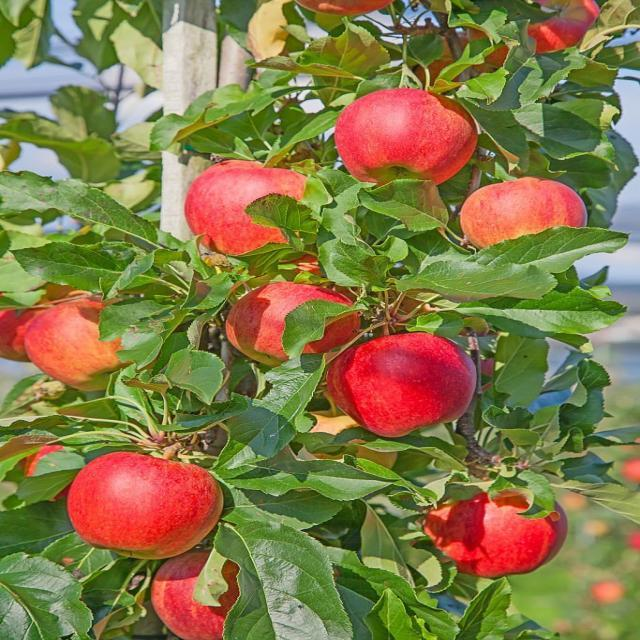Red Apple: (74, 450, 228, 556), (430, 484, 569, 583), (337, 94, 478, 188), (332, 333, 467, 431), (194, 154, 325, 254), (230, 272, 363, 358), (156, 544, 275, 640), (27, 300, 146, 380), (459, 180, 583, 248), (307, 400, 406, 482), (481, 1, 592, 70), (434, 33, 504, 107), (1, 431, 73, 497), (1, 284, 58, 360), (294, 1, 402, 25), (592, 577, 624, 609), (621, 522, 640, 552), (629, 458, 640, 489)
